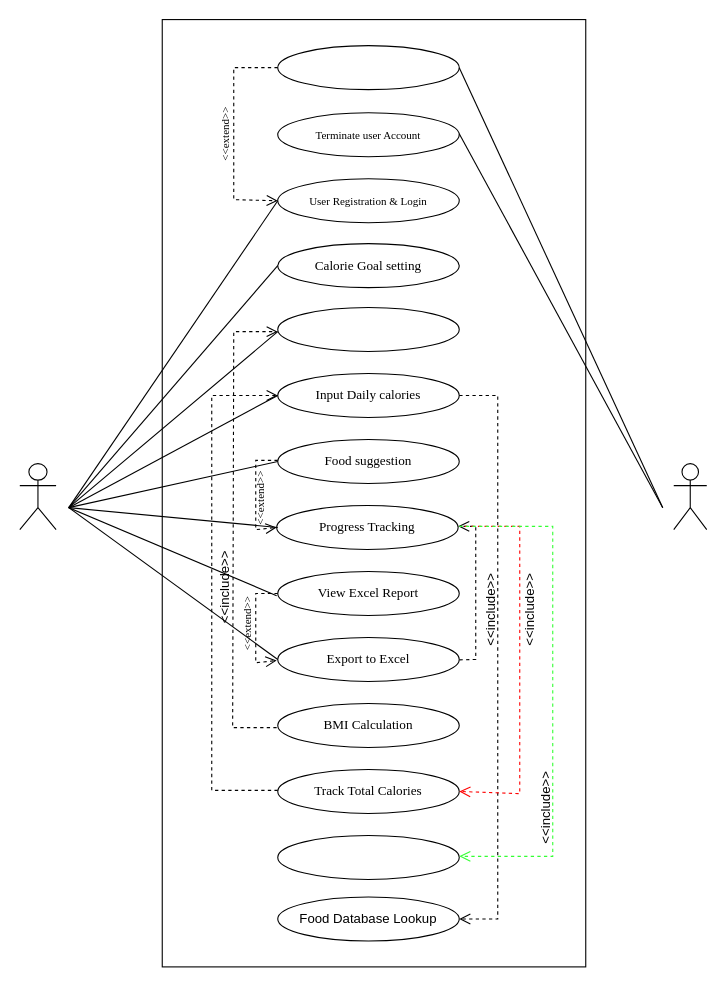
This 726x987 diagram has some shape labels left out. The shapes that lost their labels are listed below. From the top down, each one's centre as x and y in pixels, then its label:
At pixel 368 67: "Verify User Registration".
At pixel 368 328: "Profile Management".
At pixel 37 496: "User".
At pixel 690 496: "Admin".
At pixel 368 856: "Nutrient Breakdown".
